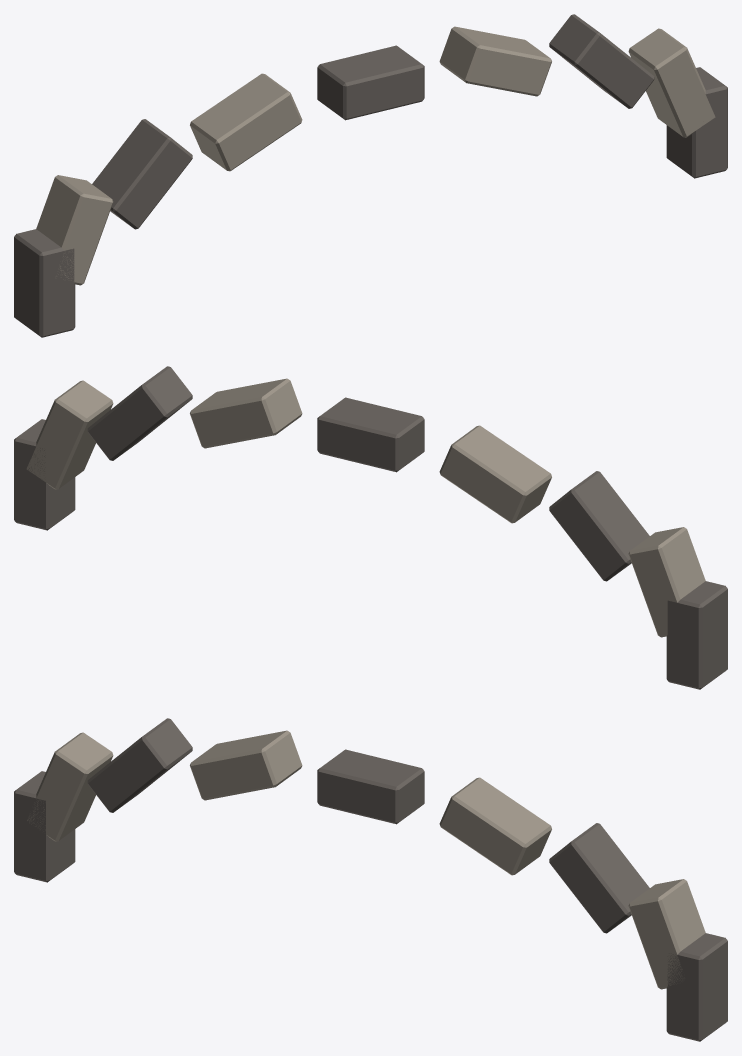
Rendered from PR_Building_TasKemerTavan.fbx.
3 views of the same model, one above another, from view 1: azimuth 30°, elevation 25°; view 2: azimuth 150°, elevation 25°; view 3: azimuth 330°, elevation 25° (orthographic).
Visible parts, largest first — view 1: PR_Building_TasKemerTavan; view 2: PR_Building_TasKemerTavan; view 3: PR_Building_TasKemerTavan.
Part boxes in pixels (box(x1,y1,x2,y2)): PR_Building_TasKemerTavan: box(14, 14, 727, 337); PR_Building_TasKemerTavan: box(14, 366, 727, 689); PR_Building_TasKemerTavan: box(14, 718, 727, 1041).
Size of the model in its own units: 4.22 by 1.09 by 0.3.
